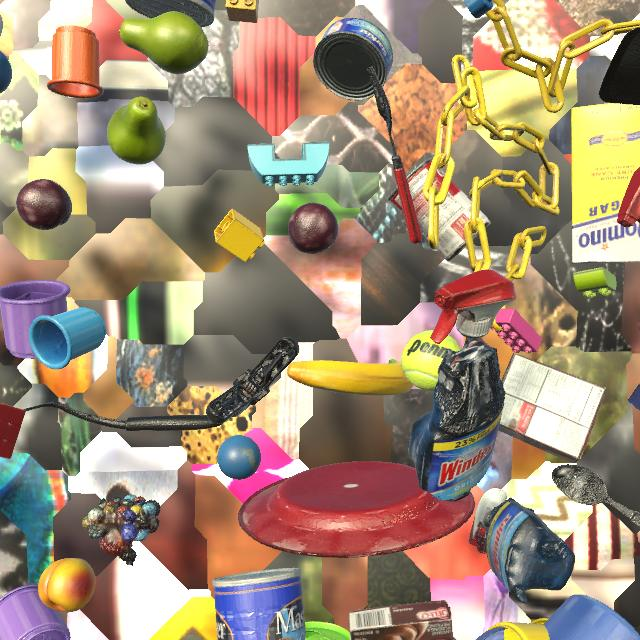ycb_002_master_chef_can: (212, 568, 306, 640), (125, 0, 216, 27)
ycb_004_sugar_box: (571, 103, 640, 264)
ycb_005_tomato_soup_can: (388, 158, 491, 262)
ycb_007_tuna_fish_can: (313, 18, 393, 101)
ycb_008_pudding_box: (498, 353, 607, 463), (348, 600, 453, 640)
ycb_011_banana: (287, 359, 413, 396)
ycb_015_peach: (38, 558, 96, 612)
ycb_016_pear: (119, 11, 209, 74), (107, 97, 166, 164)
ycb_018_plum: (16, 179, 72, 230), (288, 203, 338, 254)
